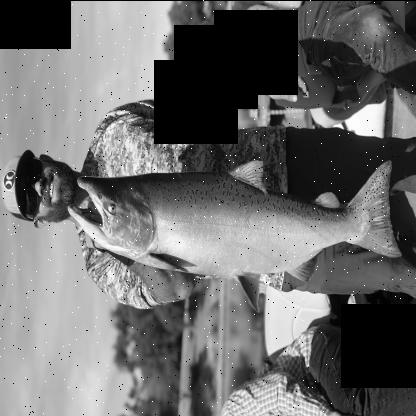fish: (64, 156, 402, 315)
